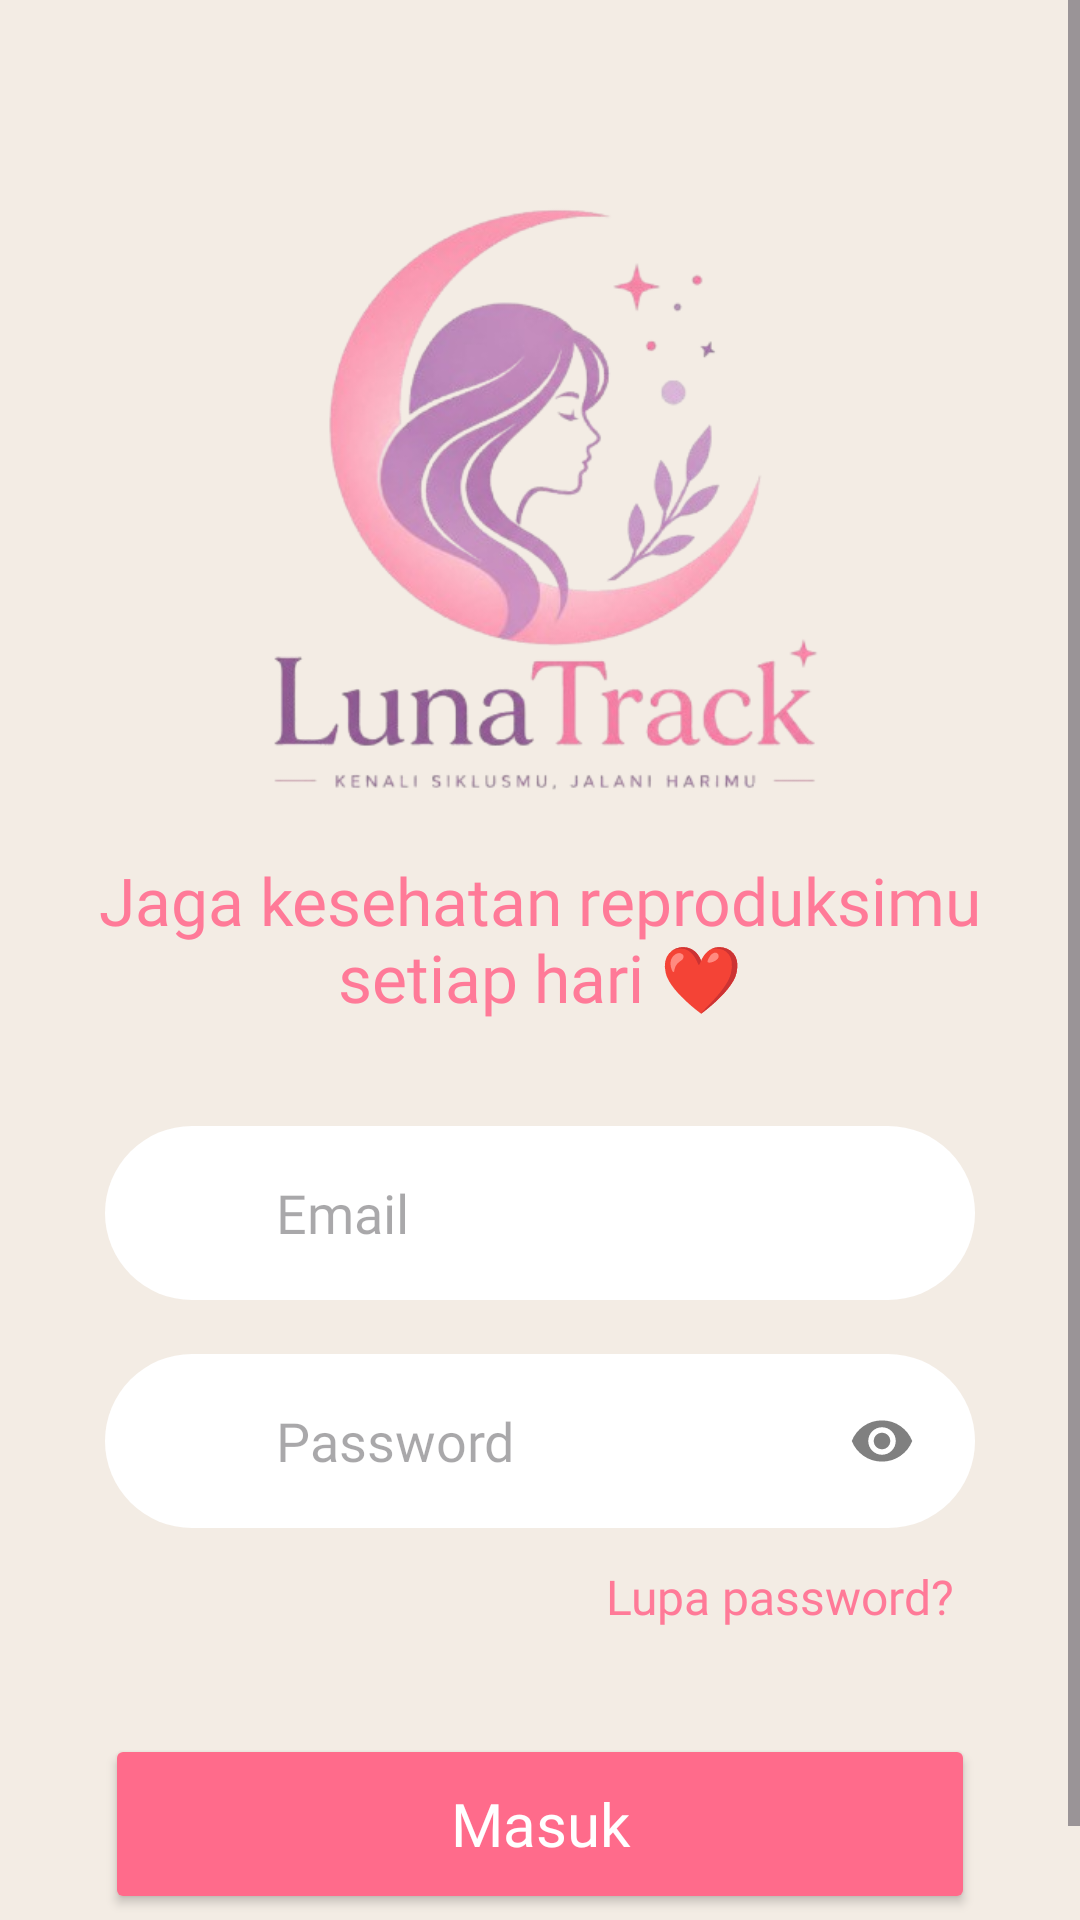

Icon bounding boxes for this 1080w x 1920h phone screenshot, format (x1, y1, x2, y2):
eye: (852, 1420, 912, 1462)
